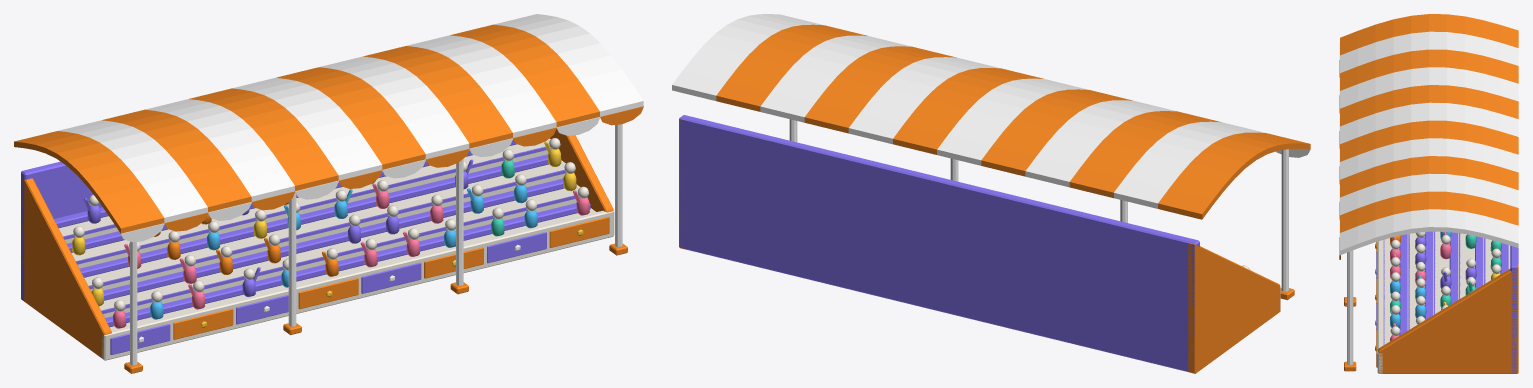
File: grandstand_v2.glb
3 views of the same model, side by side, from view 1: azimuth 30°, elevation 25°; view 2: azimuth 150°, elevation 25°; view 3: azimuth 270°, elevation 25° (orthographic). The views are drawn at different scales.
Parts seen in each view (by area): view 1: grandstand_v2; view 2: grandstand_v2; view 3: grandstand_v2.
Boxes of the visible parts, x1,y1,x2,y2 form: grandstand_v2: (14, 14, 643, 373); grandstand_v2: (672, 14, 1310, 373); grandstand_v2: (1339, 14, 1518, 373).
Bounding box in the file's own units: 25 × 8.2 × 8.88.
